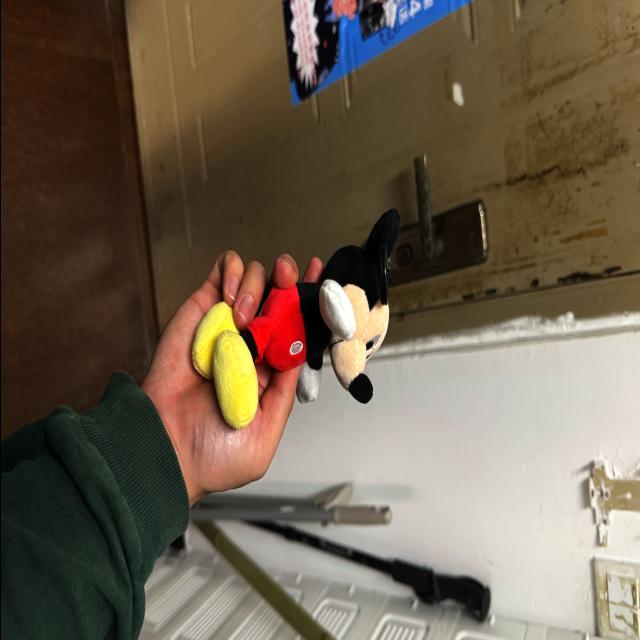mickey: (192, 210, 398, 428)
